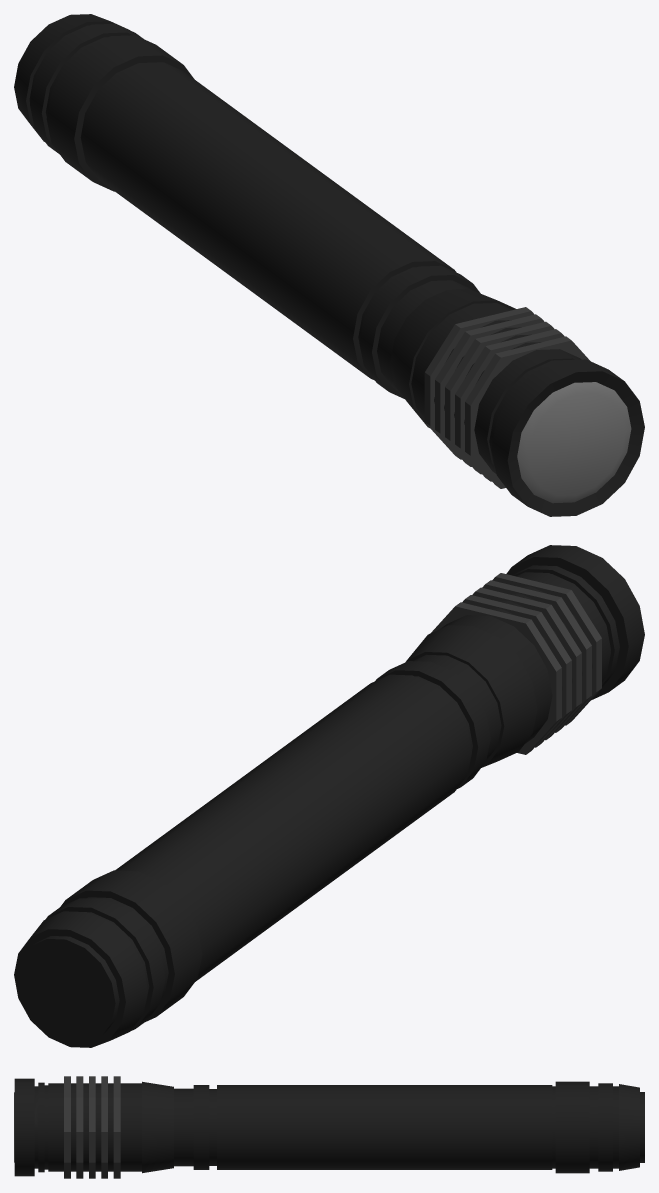
File: 懐中電灯.fbx
3 renders of one model, top to bottom at view 1: azimuth 30°, elevation 25°; view 2: azimuth 150°, elevation 25°; view 3: azimuth 270°, elevation 25°, orthographic. The views are drawn at different scales.
Visible parts, largest first — view 1: 懐中電灯; view 2: 懐中電灯; view 3: 懐中電灯.
Part boxes in pixels (x1,y1,x2,y2): 懐中電灯: (14, 14, 644, 516); 懐中電灯: (14, 545, 644, 1047); 懐中電灯: (14, 1076, 644, 1178).
Size of the model in its own units: 0.7995 by 0.7995 by 5.15.
